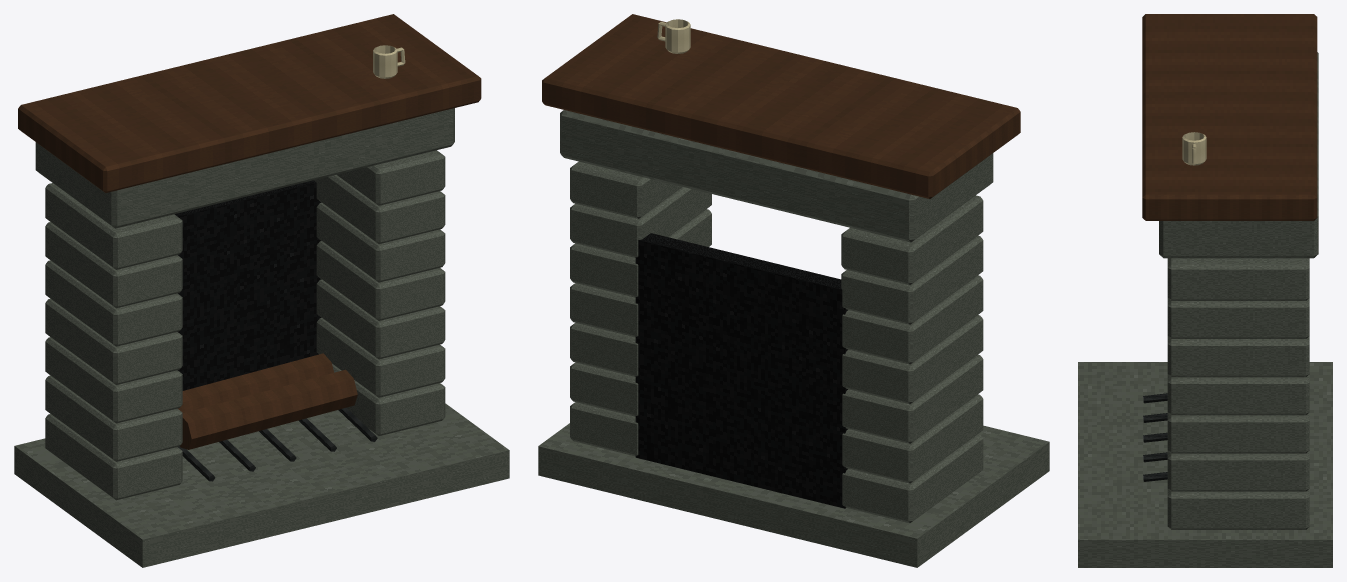
The model's file is level_camp_fireplace.glb.
The picture shows the model from 3 angles, left to right: view 1: azimuth 30°, elevation 25°; view 2: azimuth 150°, elevation 25°; view 3: azimuth 270°, elevation 25°; orthographic projection. The views are drawn at different scales.
Parts seen in each view (by area): view 1: level_camp_fireplace; view 2: level_camp_fireplace; view 3: level_camp_fireplace.
Boxes of the visible parts, x1,y1,x2,y2 form: level_camp_fireplace: [14, 14, 509, 567]; level_camp_fireplace: [538, 14, 1049, 567]; level_camp_fireplace: [1078, 14, 1332, 567].
Size of the model in its own units: 1.96 by 1.99 by 1.15.
Materials: 5 (5 with a texture image).
